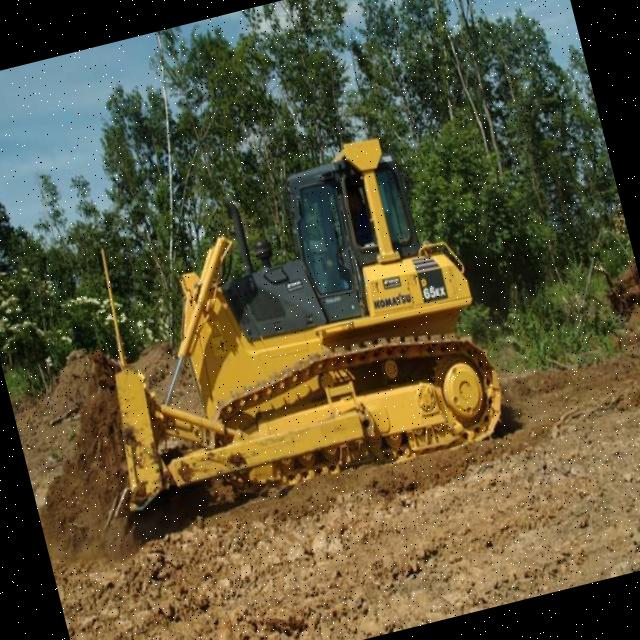Bulldozer: (25, 84, 534, 549)
